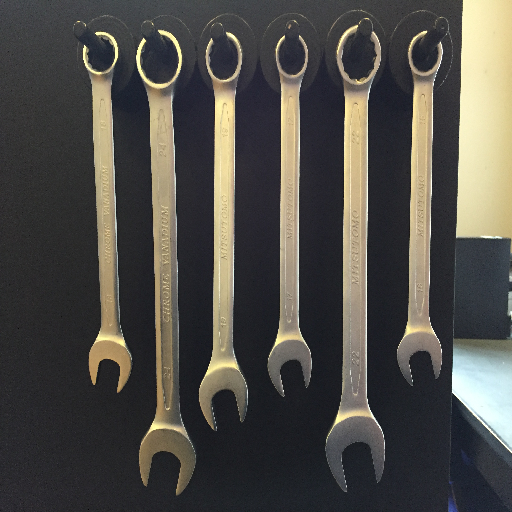bottom: (321, 411, 387, 493), (133, 424, 203, 496), (194, 365, 251, 432), (264, 338, 318, 400), (394, 329, 446, 389), (87, 336, 134, 394)
top: (334, 22, 384, 87), (135, 27, 184, 90), (202, 28, 245, 86), (406, 25, 445, 83), (80, 28, 120, 78), (273, 32, 312, 81)
